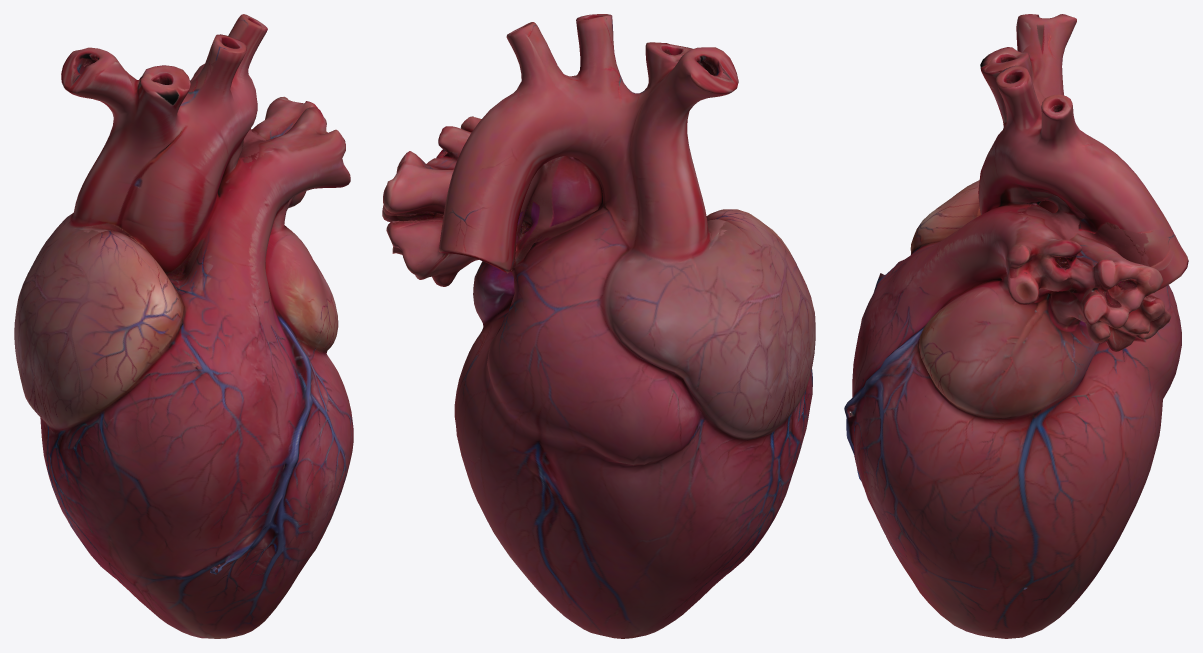
File: human heart .gltf
3 views of the same model, side by side, from view 1: azimuth 30°, elevation 25°; view 2: azimuth 150°, elevation 25°; view 3: azimuth 270°, elevation 25° (orthographic). The views are drawn at different scales.
Visible parts, largest first — view 1: Heart; view 2: Heart; view 3: Heart.
Boxes of the visible parts, x1,y1,x2,y2 form: Heart: [14, 14, 353, 638]; Heart: [382, 14, 815, 638]; Heart: [844, 14, 1188, 638].
Bounding box in the file's own units: 5.78 × 9.43 × 5.14.
Materials: 1 (1 with a texture image).
